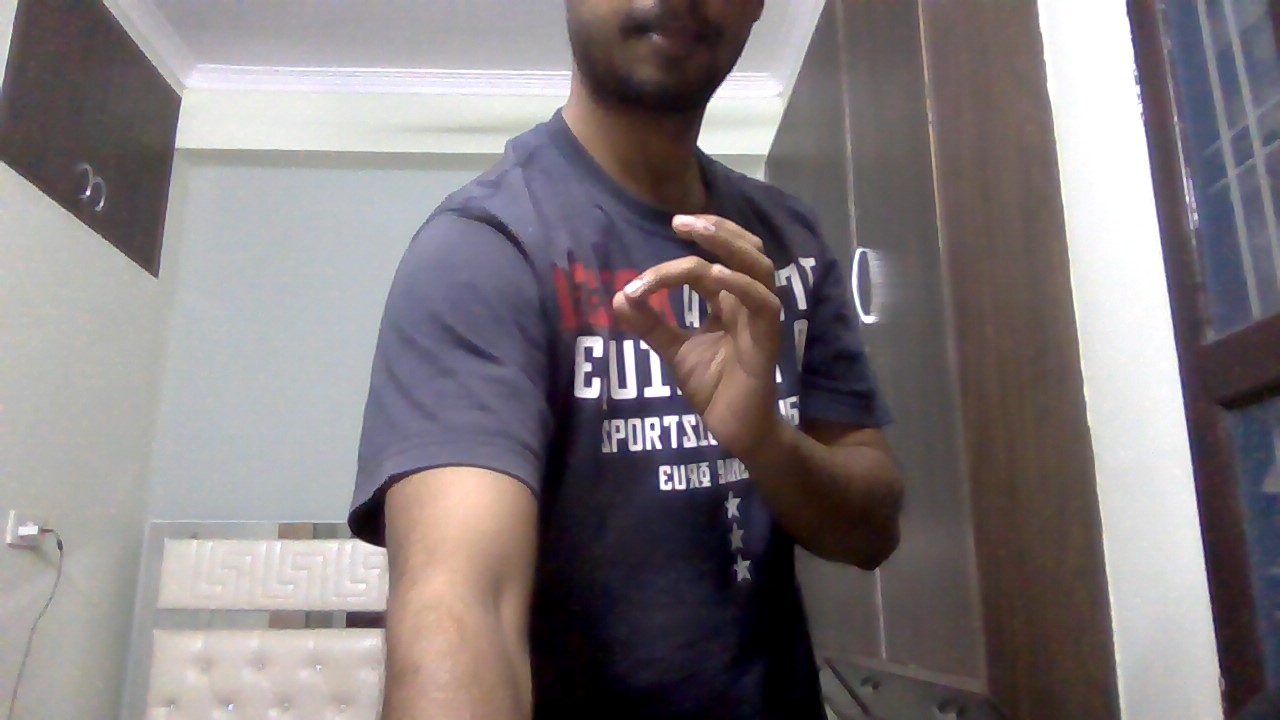Copy: (604, 200, 814, 478)
